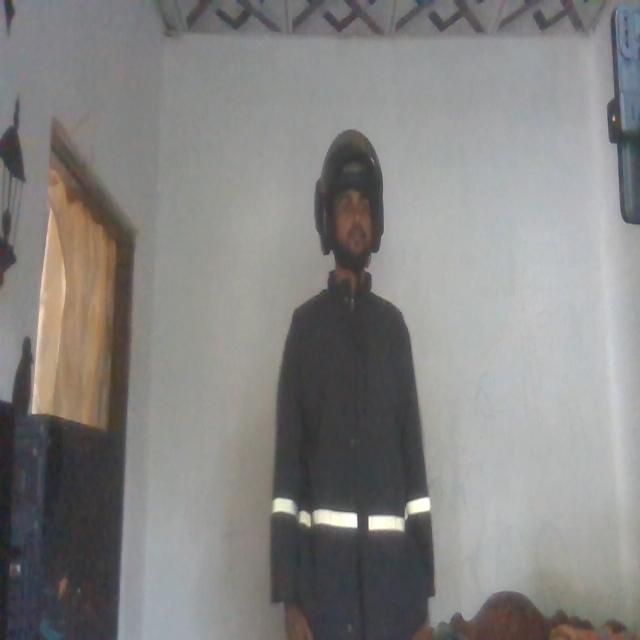Helmet_Wearer: (301, 124, 389, 276)
Jacket_Wearer: (267, 271, 437, 633)
Person: (267, 126, 433, 640)
